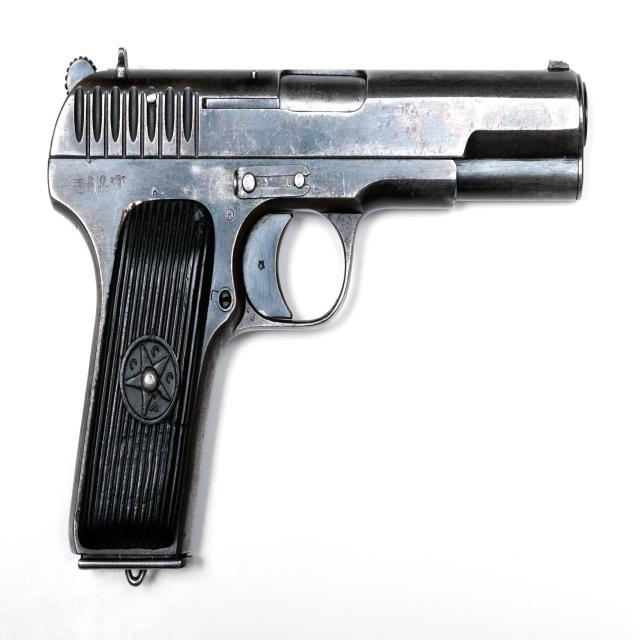Pistol: (35, 31, 602, 602)
